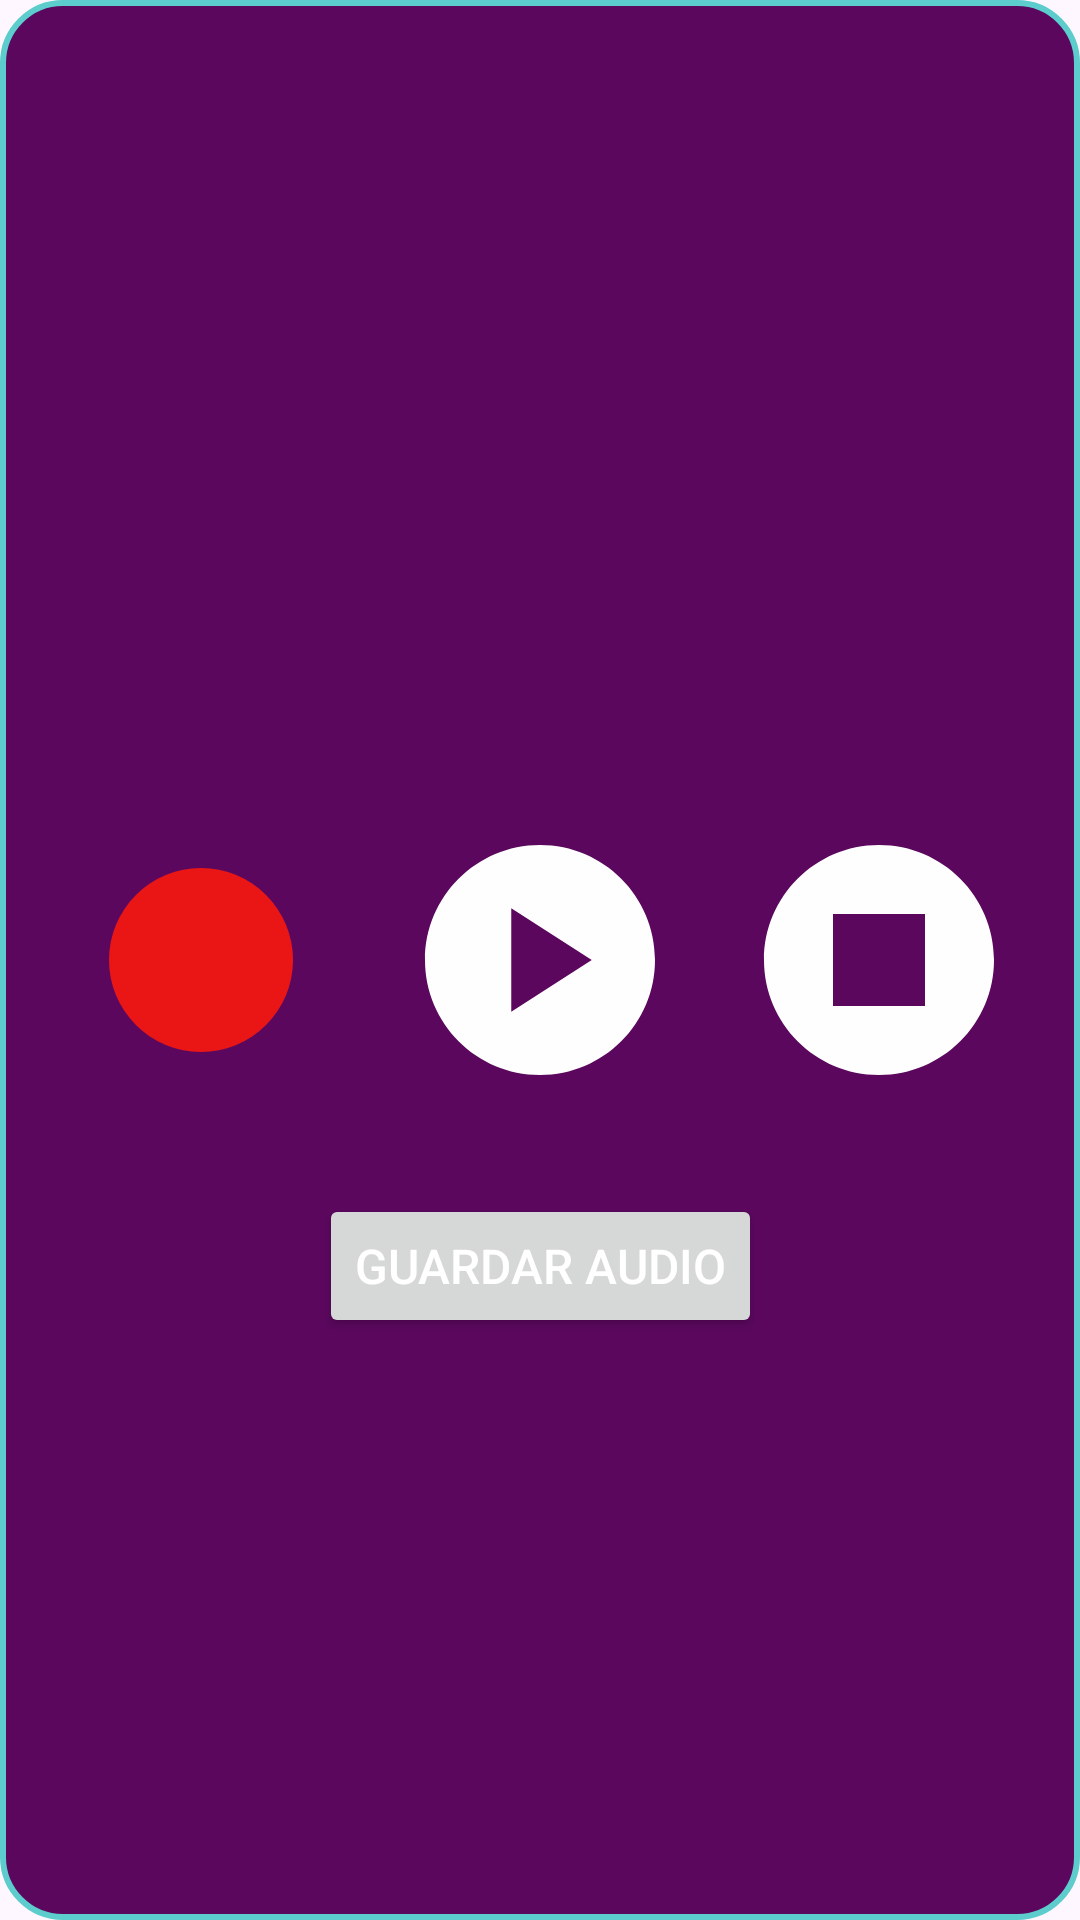

Where to tap for icons on this 1080 x 1920 app screen, as [x,y]:
play circle: [540,960]
record: [201,960]
stop circle: [879,960]
